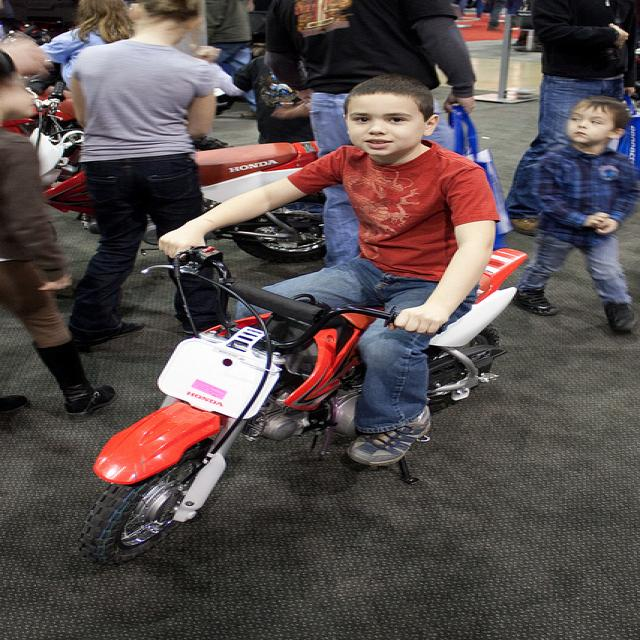motor: (76, 247, 518, 559), (203, 164, 335, 257), (193, 140, 319, 190)
